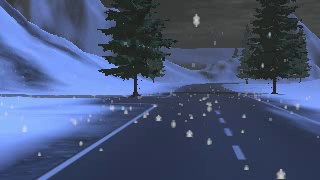Lane: (44, 82, 318, 179)
